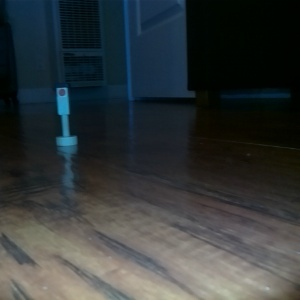traffic light red: (51, 80, 80, 150)
